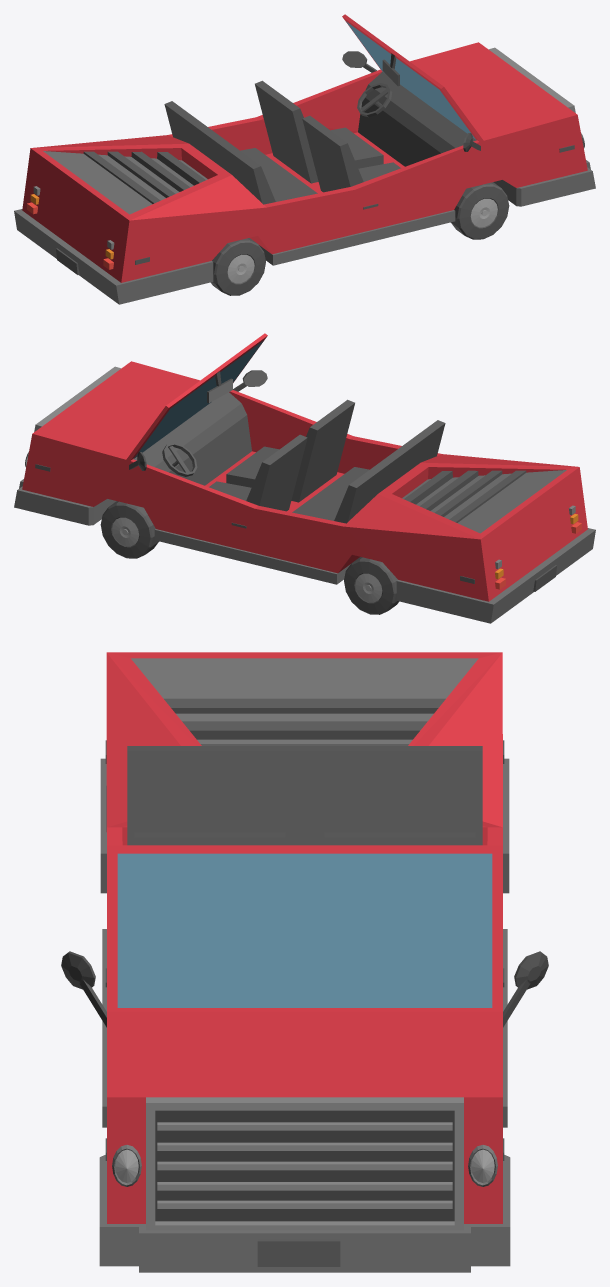
Rendered from Car_paoche.fbx.
3 renders of one model, top to bottom at view 1: azimuth 30°, elevation 25°; view 2: azimuth 150°, elevation 25°; view 3: azimuth 270°, elevation 25°, orthographic. The views are drawn at different scales.
Parts seen in each view (by area): view 1: Car_paoche; view 2: Car_paoche; view 3: Car_paoche.
Boxes of the visible parts, x1,y1,x2,y2 form: Car_paoche: (14,14,595,304); Car_paoche: (14,333,595,623); Car_paoche: (61,652,548,1272).
Bounding box in the file's own units: 6.39 × 2.05 × 2.77.
